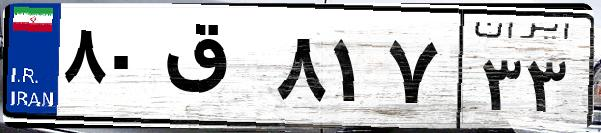0: (110, 28, 158, 98)
1: (330, 28, 385, 110)
3: (475, 38, 525, 113), (525, 38, 570, 115)
7: (385, 28, 445, 110)
8: (270, 28, 330, 110), (57, 26, 110, 100)
ق: (158, 20, 270, 120)
